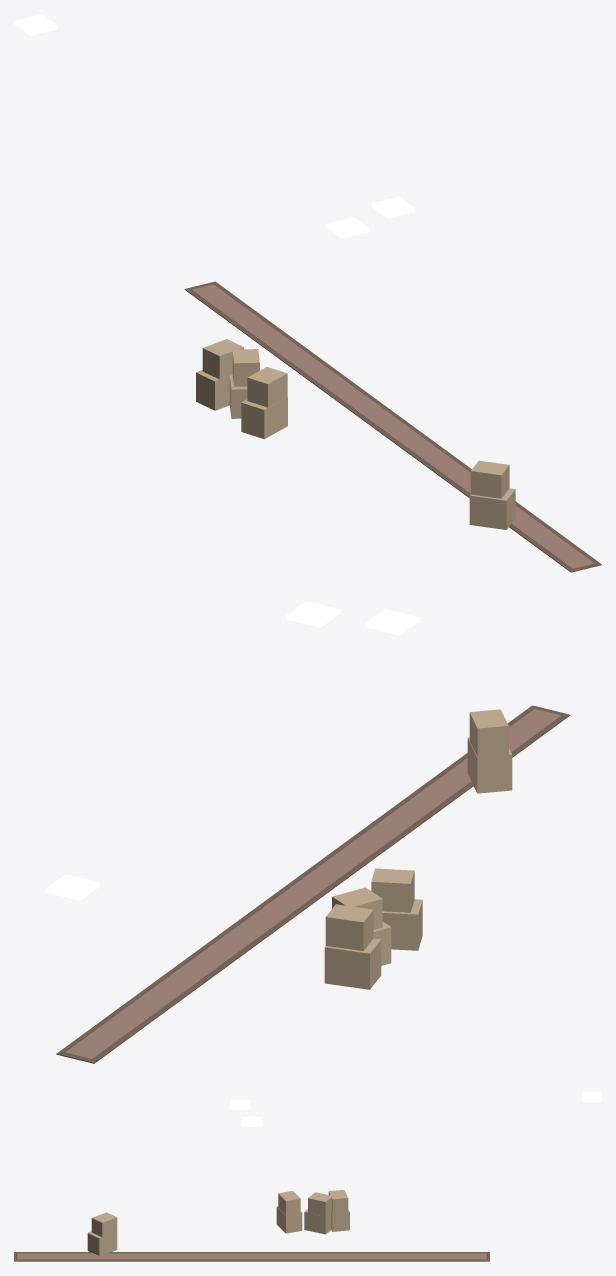
Rendered from fine-s0.glb.
The picture shows the model from 3 angles, top to bottom: view 1: azimuth 30°, elevation 25°; view 2: azimuth 150°, elevation 25°; view 3: azimuth 270°, elevation 25°; orthographic projection. The views are drawn at different scales.
Visible parts, largest first — view 1: soft-s0, cardboard-box.002, crate.000, cardboard-box.000, cardboard-box.001; view 2: soft-s0, cardboard-box.000, cardboard-box.002, crate.000, cardboard-box.001, ceiling-lamp.002, ceiling-lamp.000, ceiling-lamp.001; view 3: soft-s0, cardboard-box.002, cardboard-box.001, crate.000, cardboard-box.000.
Part boxes in pixels (<box>): soft-s0: <box>184,281,601,572</box>; cardboard-box.002: <box>469,460,515,529</box>; crate.000: <box>241,367,287,439</box>; cardboard-box.000: <box>196,339,243,410</box>; cardboard-box.001: <box>229,349,259,418</box>; soft-s0: <box>56,705,570,1063</box>; cardboard-box.000: <box>324,904,381,989</box>; cardboard-box.002: <box>467,709,512,793</box>; crate.000: <box>371,868,422,950</box>; cardboard-box.001: <box>332,887,391,965</box>; ceiling-lamp.002: <box>365,609,419,635</box>; ceiling-lamp.000: <box>286,601,340,627</box>; ceiling-lamp.001: <box>45,874,99,900</box>; soft-s0: <box>14,1252,489,1261</box>; cardboard-box.002: <box>87,1212,117,1255</box>; cardboard-box.001: <box>304,1192,332,1234</box>; crate.000: <box>276,1191,302,1233</box>; cardboard-box.000: <box>328,1190,349,1231</box>.
Size of the model in its own units: 2.45 by 3.77 by 14.76.
